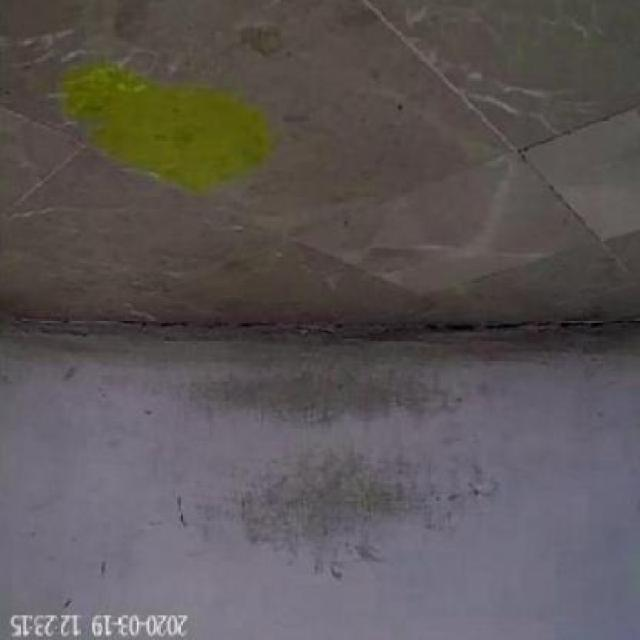spillage: (58, 60, 285, 194)
